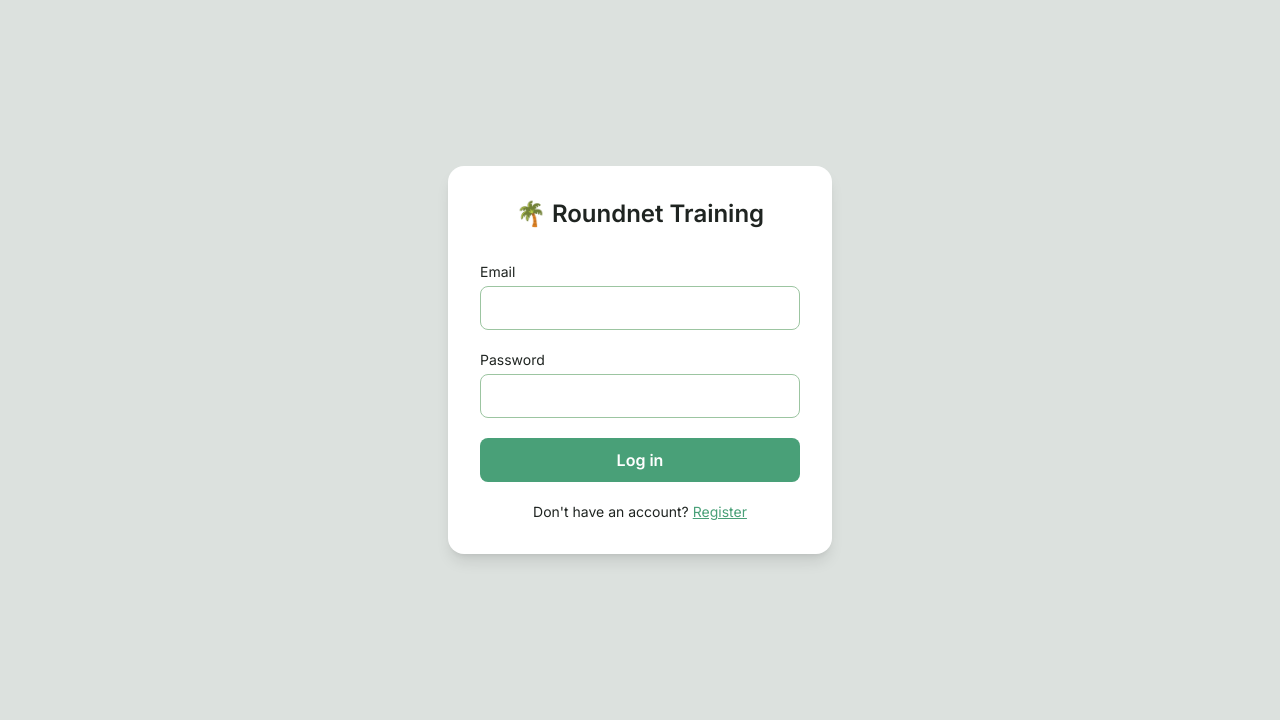
Test: login flow › shows Admin section for admin after login (invites removed)
Type "u@example.com" into the field labelled "Email" at (640, 308), box [480,286,800,330]
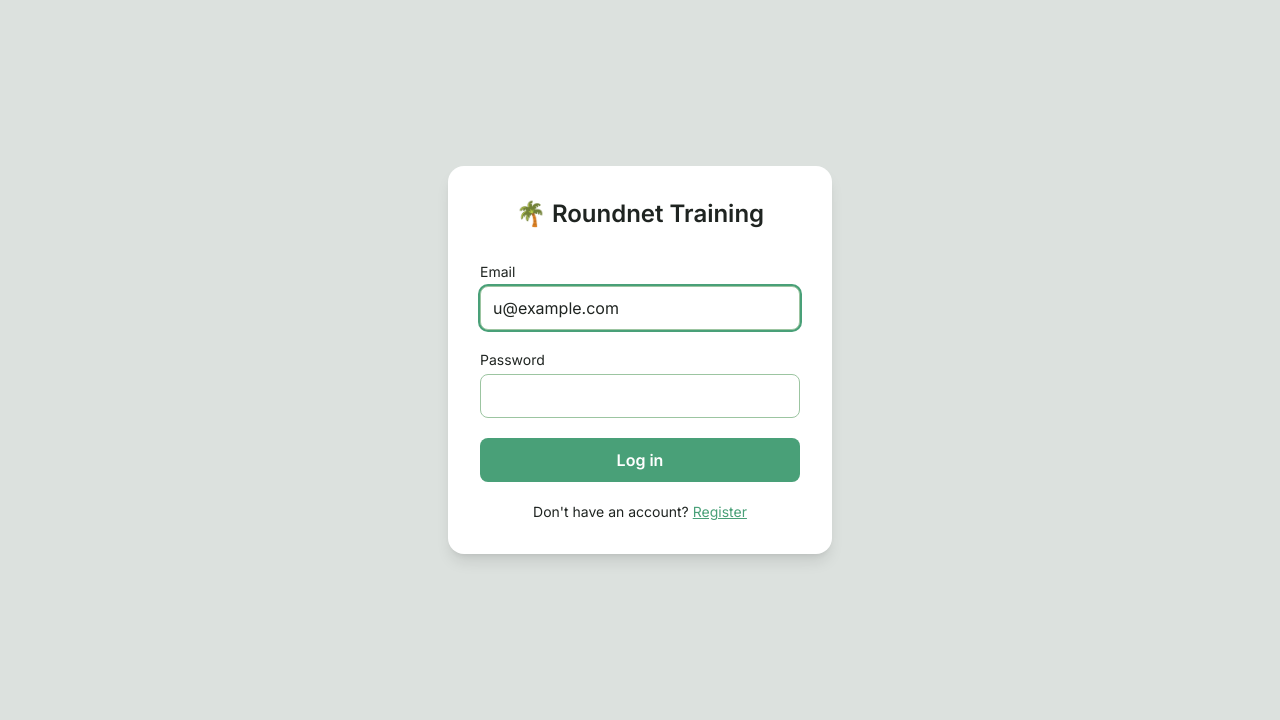
Type "secret" into the password field labelled "Password" at (640, 396), box [480,374,800,418]
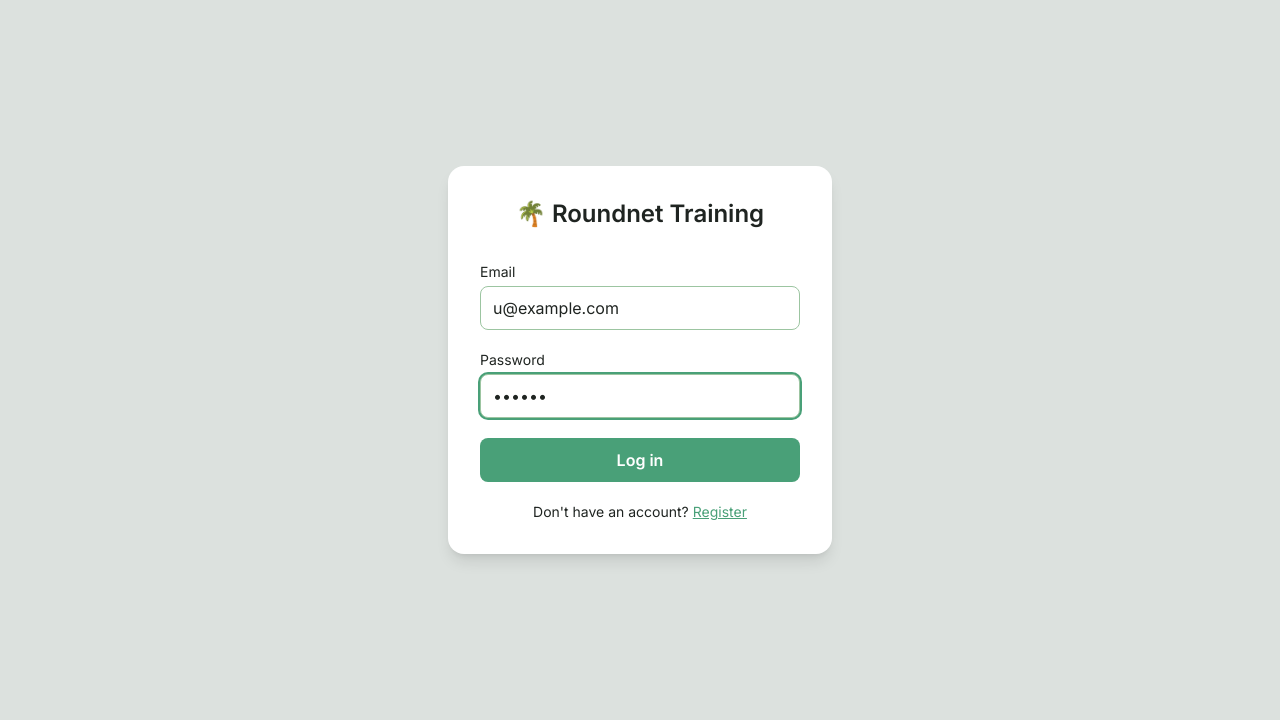
Click the button "Log in" at (640, 460), box [480,438,800,482]
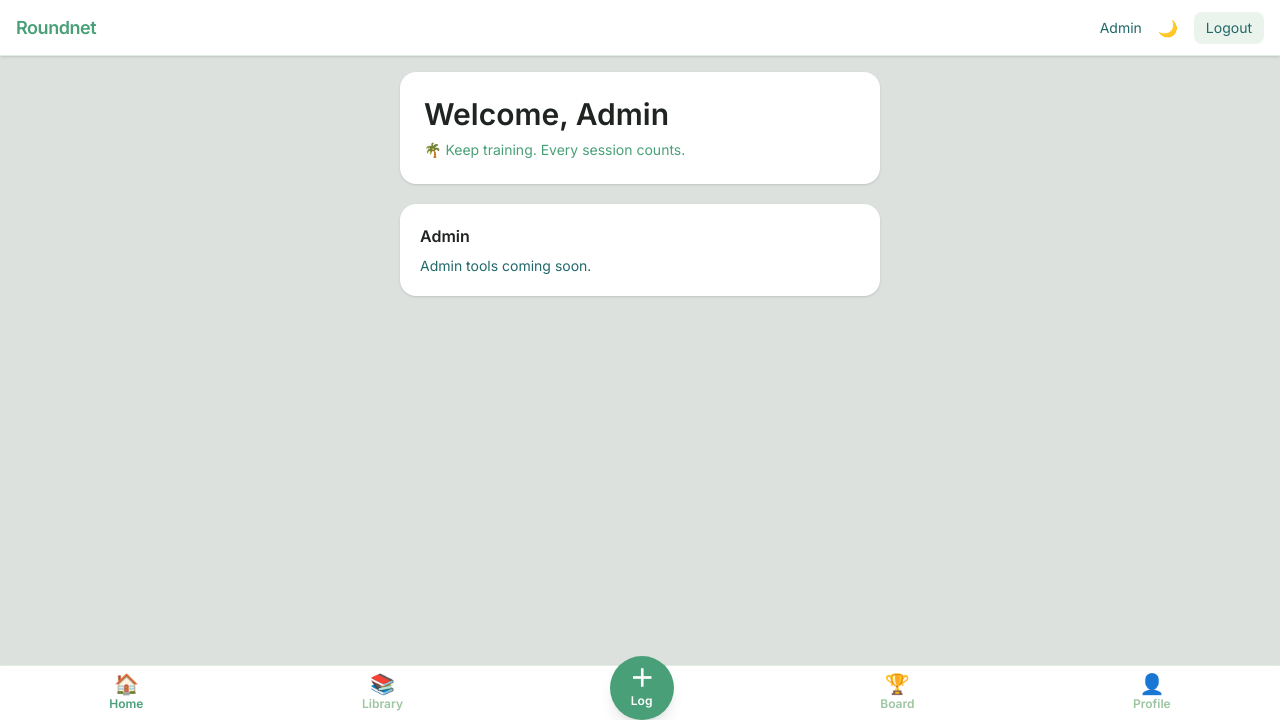
Expected: the element "Admin Admin tools coming soon." is shown, [400,204,880,296]
